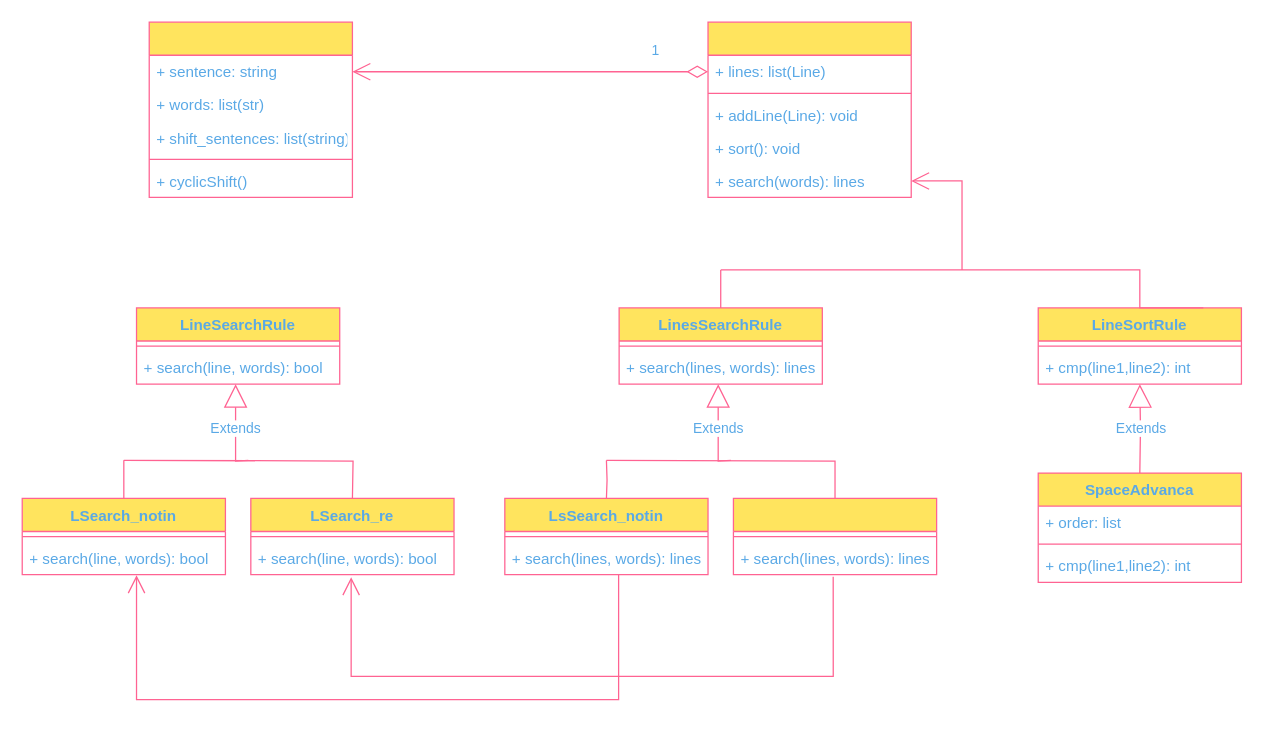
This 1264x740 diagram has some shape labels left out. The box of each missing label's shape, as (x1, y1, x2, y2) in pixels:
Line: (148, 21, 352, 197)
LsSearch_re: (732, 497, 937, 575)
Text: (707, 21, 911, 197)
